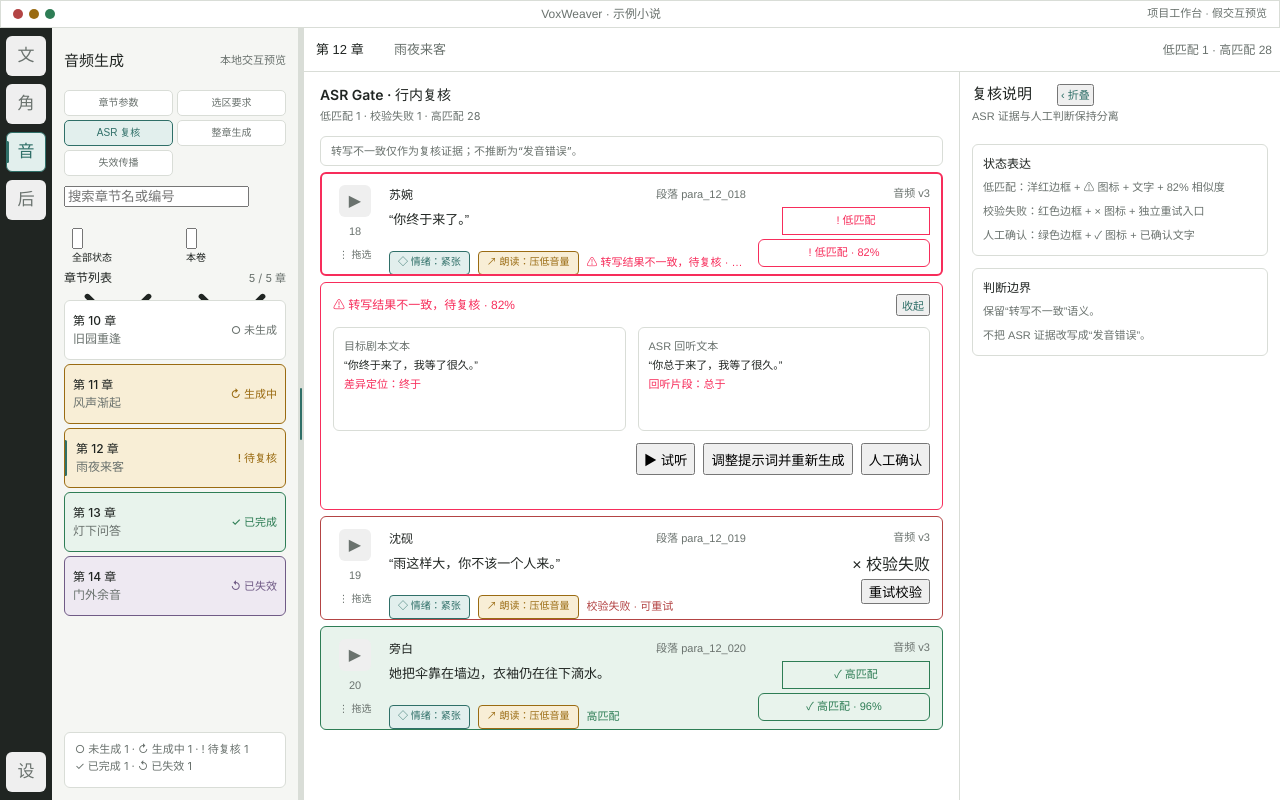
Test: selection and ASR review interactions › asr 低匹配详情可收起，并可人工确认成显式已确认状态
Expected: the option that starts with "⋮ 拖选" shows "⚠ 转写结果不一致，待复核", [320,172,943,276]
Expected: the option that starts with "⋮ 拖选" shows "82%", [320,172,943,276]
What coordinates should you click on to do the following:
click the button "收起"
I would click on:
 (913, 305)
Its box is [896,294,930,316].
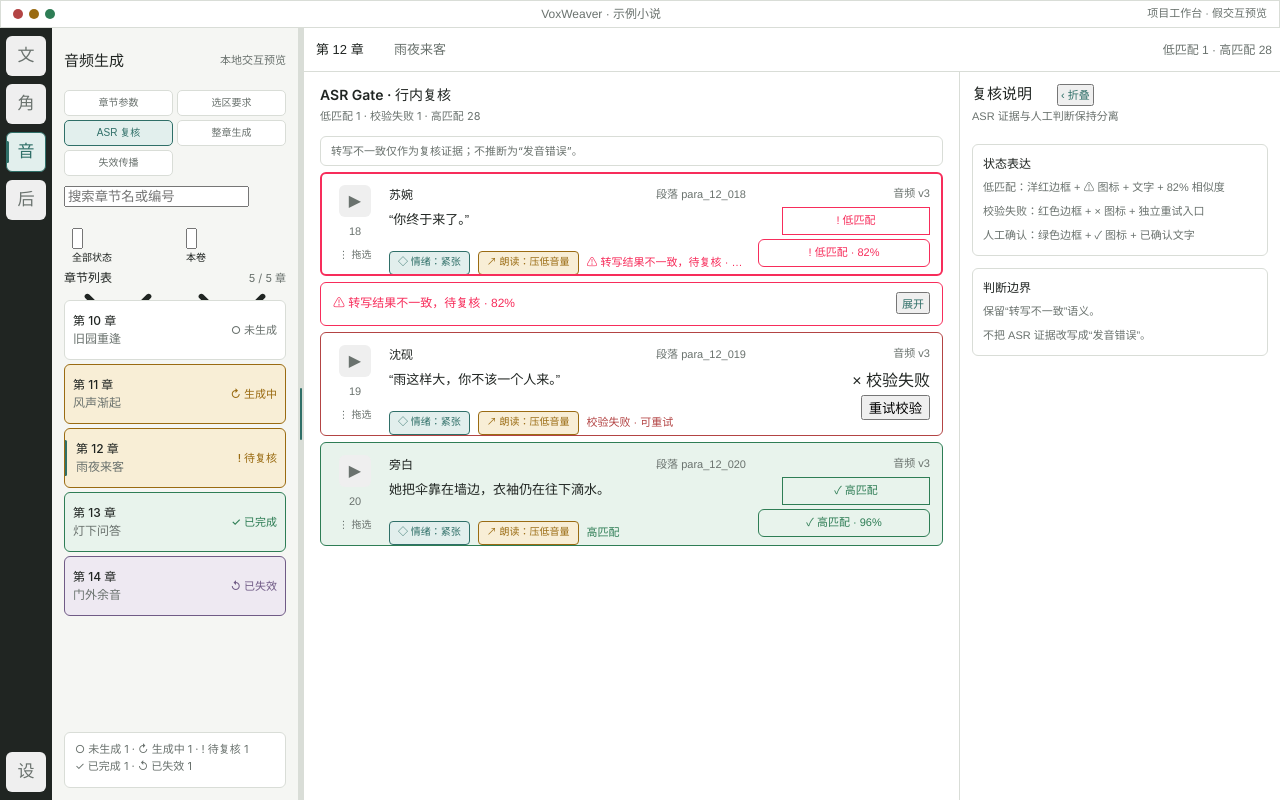
Expected: the element with class "asr-diff-panel" has class "asr-diff-panel--collapsed", [320,282,943,326]
What coordinates should you click on to do the following:
click the button "展开"
I would click on:
 (913, 303)
Its box is [896,292,930,314].
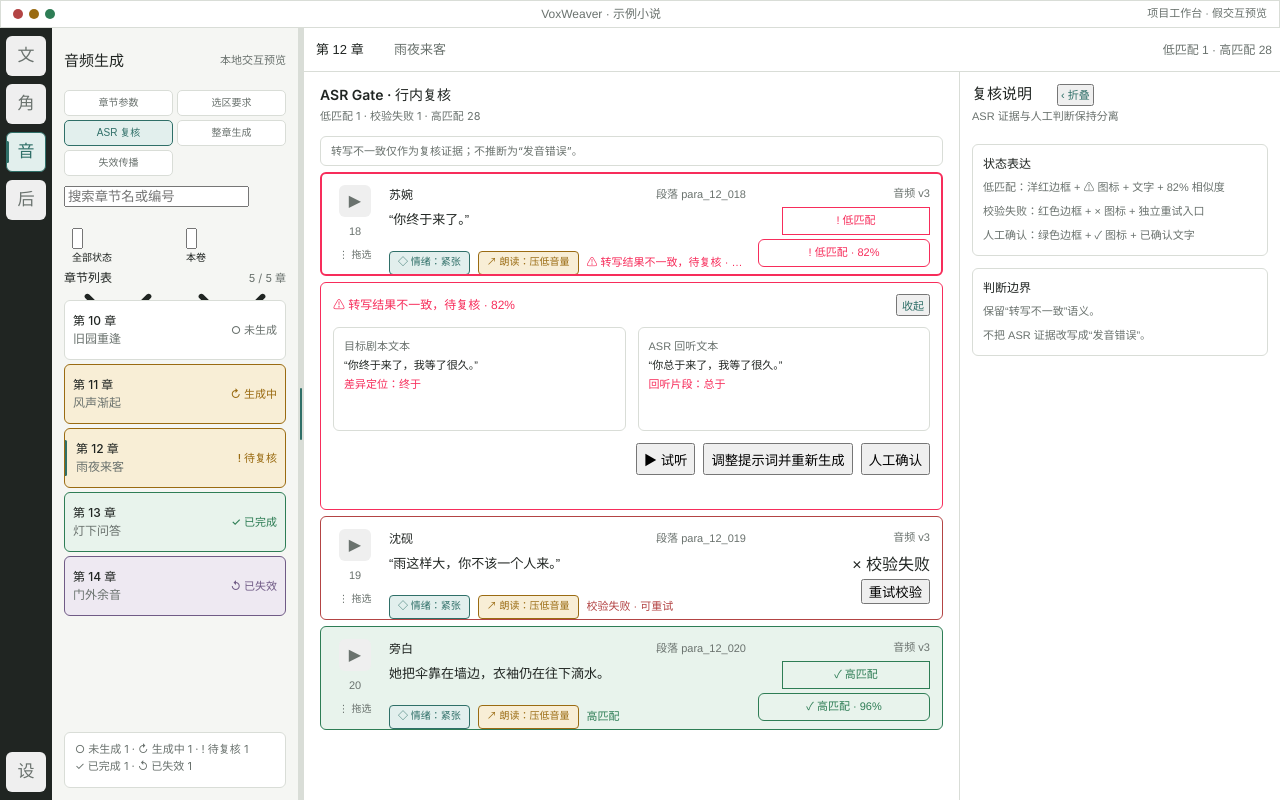
What coordinates should you click on to do the following:
click the button "人工确认"
I would click on:
 (895, 459)
Its box is [861,443,930,475].
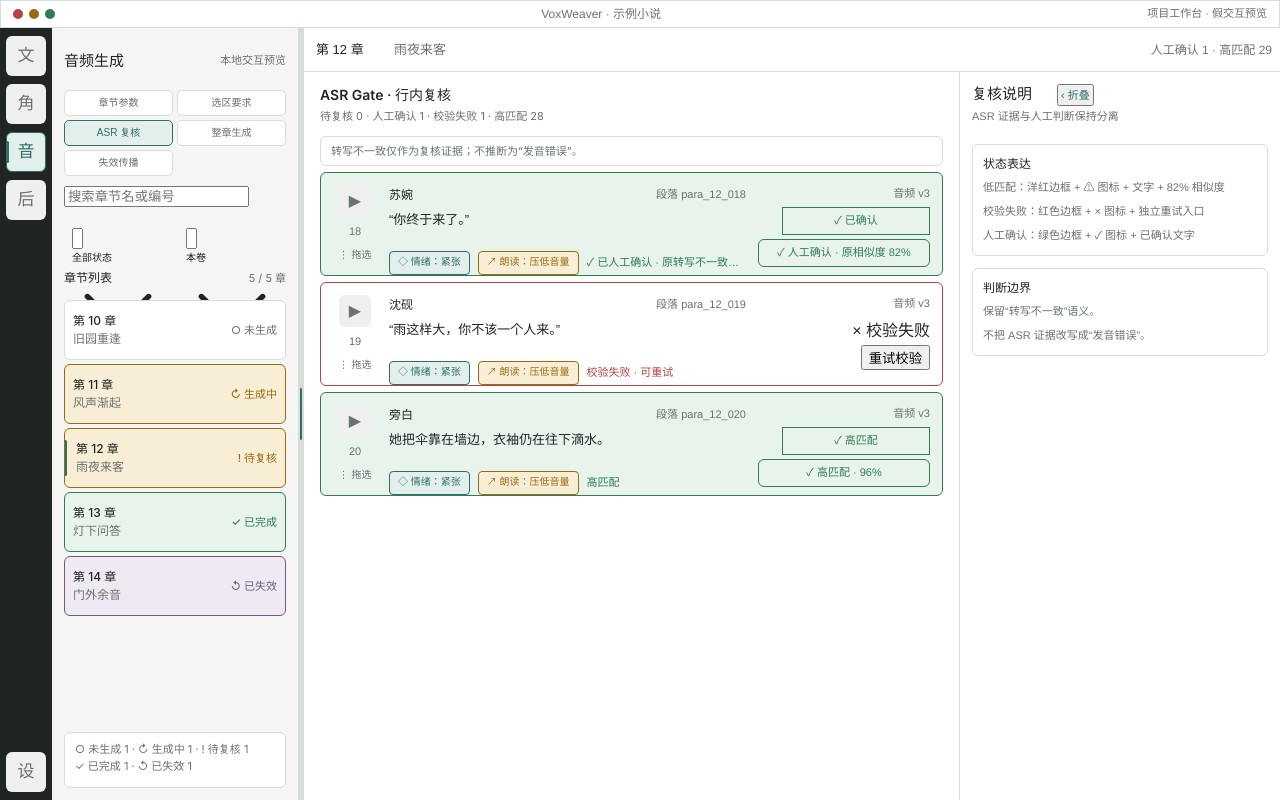
Expected: the text "发音错误" is not shown
Expected: the option that starts with "⋮ 拖选" shows "已人工确认", [320,172,943,276]
